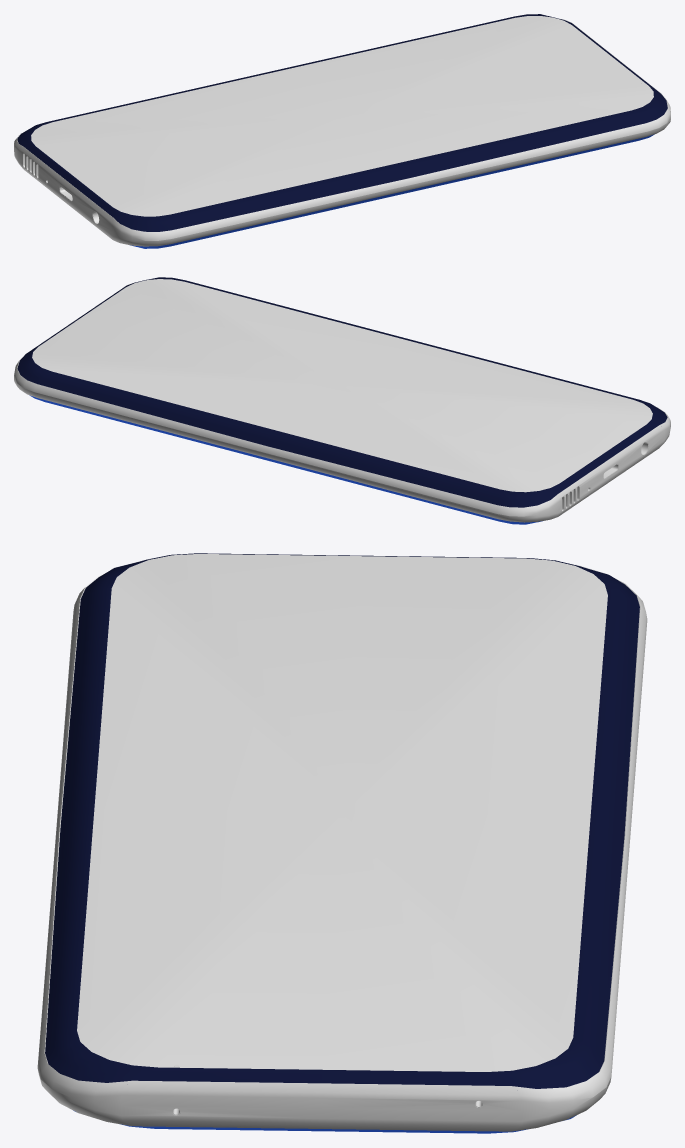
The model's file is Offbrand_Phone.fbx.
The picture shows the model from 3 angles, top to bottom: view 1: azimuth 30°, elevation 25°; view 2: azimuth 150°, elevation 25°; view 3: azimuth 270°, elevation 25°; orthographic projection. The views are drawn at different scales.
Visible parts, largest first — view 1: Smartphone; view 2: Smartphone; view 3: Smartphone.
Boxes of the visible parts, left/top/right/bottom form: Smartphone: left=14, top=14, right=670, bottom=248; Smartphone: left=14, top=277, right=670, bottom=524; Smartphone: left=37, top=553, right=647, bottom=1133.
Size of the model in its own units: 392 by 21.65 by 188.
